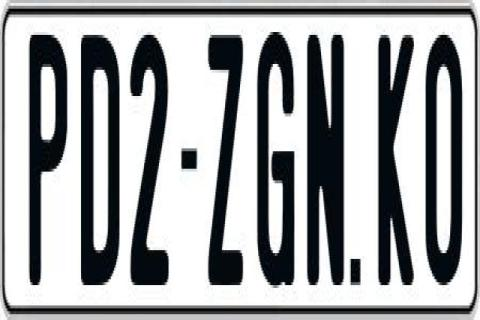0: (128, 29, 168, 282), (422, 29, 460, 291)
D: (81, 35, 123, 303)
G: (255, 32, 293, 302)
K: (376, 26, 416, 276)
N: (308, 32, 344, 291)
P: (30, 29, 69, 285)
Z: (205, 29, 241, 288)
